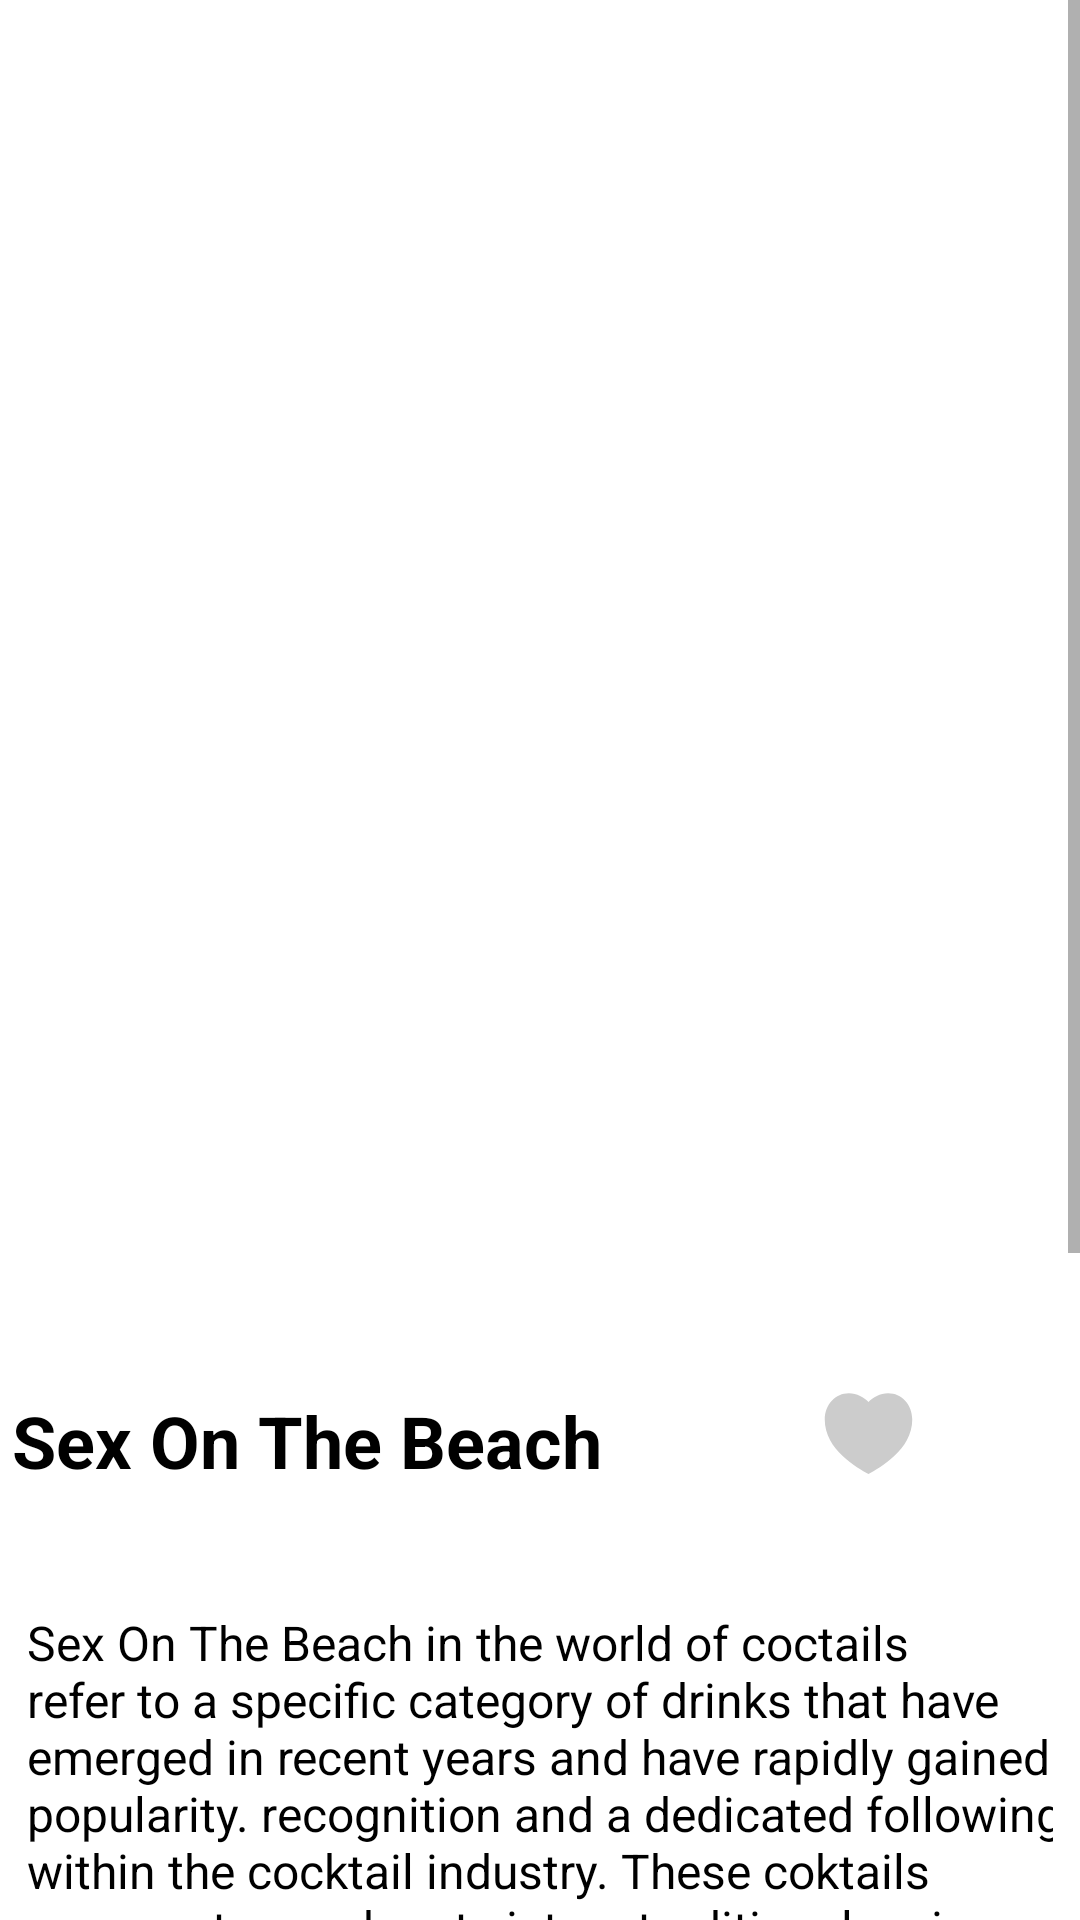

Icon click points for this 1080*1920 phone screenshot, format (x=x, y=y):
heart: (x=868, y=1433)
